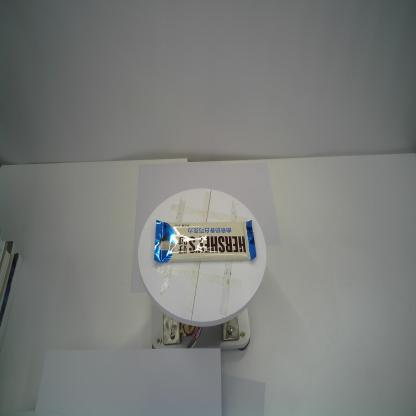Chocolate: (153, 219, 258, 264)
